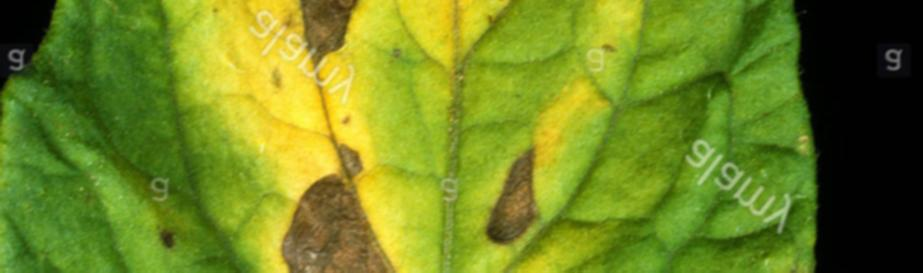Tomato Early blight leaf: (0, 0, 792, 273)
